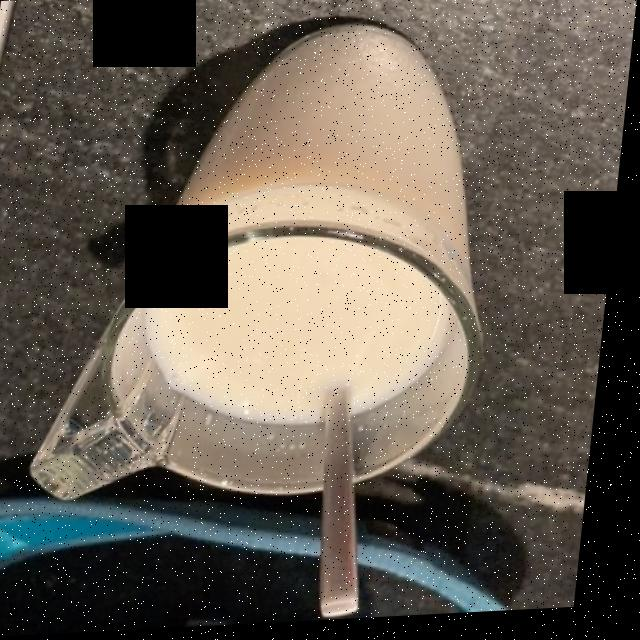milk: (153, 35, 467, 424)
